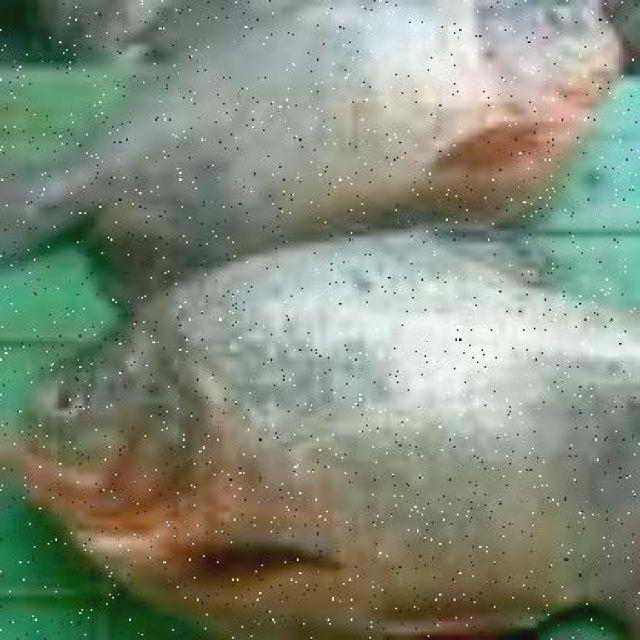ikan-pacu: (15, 223, 640, 639), (3, 0, 628, 262)
